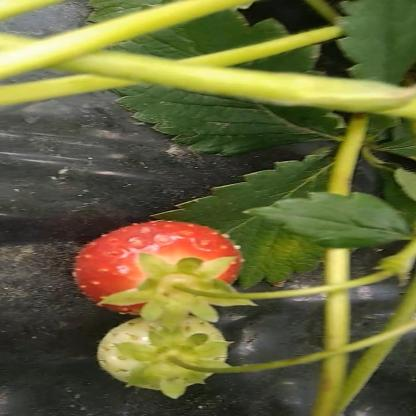ripe: (62, 217, 244, 313)
unripe: (90, 318, 235, 396)
